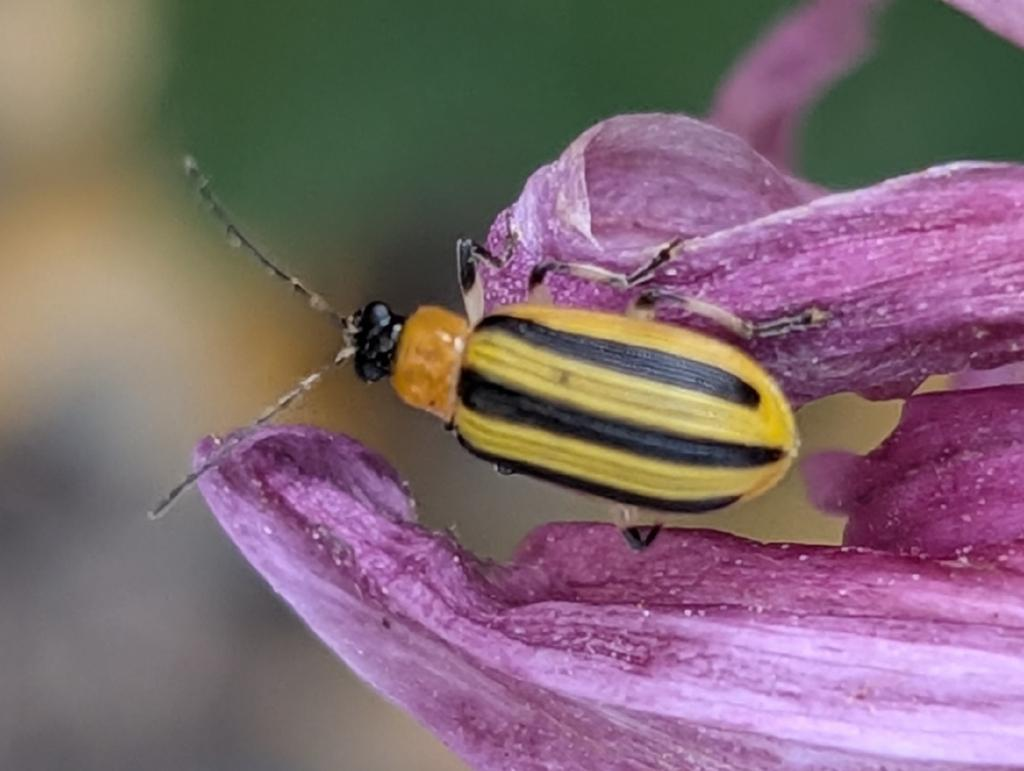potato_beetle: (91, 98, 922, 634)
